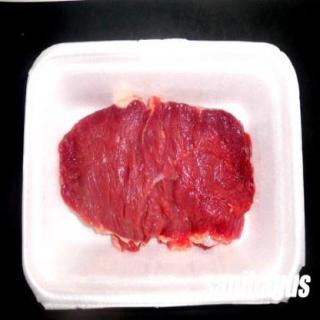Daging Sapi: (60, 104, 257, 249)
